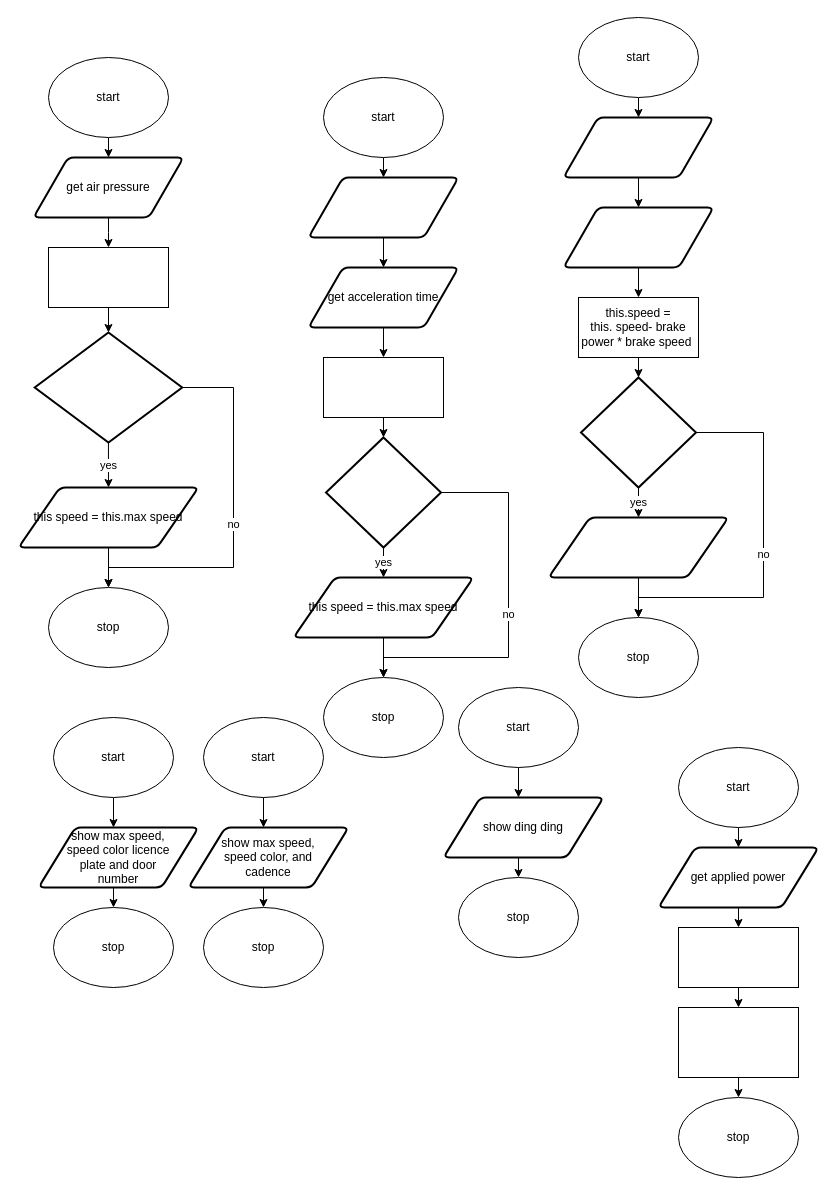
Image size: 836x1195. Some labels were removed from this diagram. Each missing label, with the centre of its shape:
"get acceleration power" goes at (x=383, y=207).
"get brake power" goes at (x=638, y=237).
"get break time" goes at (x=638, y=147).
"if super.getSpeed() < 0" goes at (x=108, y=387).
"if this.speed > this maxSpeed" goes at (x=383, y=492).
"if this.speed< 0" goes at (x=638, y=432).
"super.setSpeed = (super.getSpeed() - airPressure / 2" goes at (x=108, y=277).
"super.setSpeed = (this.cadence * 2)" goes at (x=738, y=1042).
"this.cadence = applied power + this. speed" goes at (x=738, y=957).
"this.speed = acceleration power * acceleration speed +this. speed" goes at (x=383, y=387).
"this.speed= 0" goes at (x=638, y=547).
